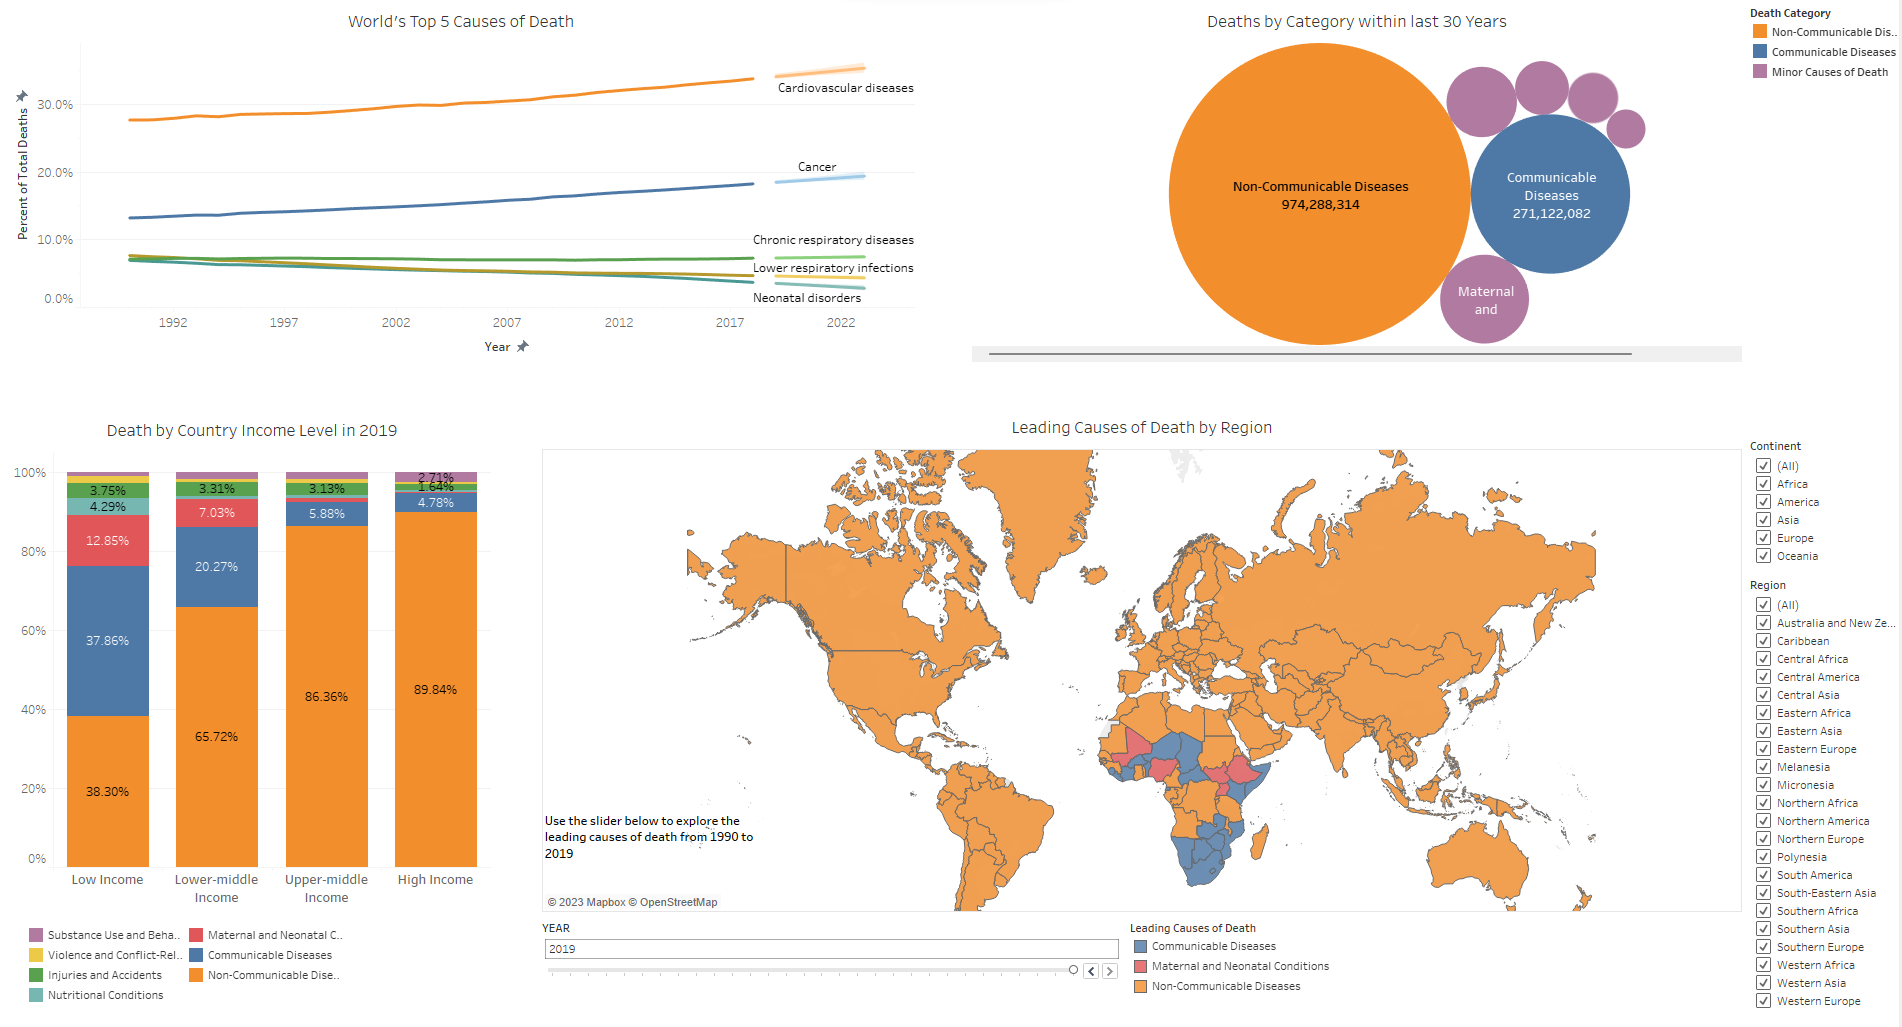

This screenshot's page, from the dashboard's own definition file:
{"tool":"tableau","page":{"name":"Causes of Death 1990-2019","canvas":[1000,1000],"units":"permille","ordinal":0},"visuals":[{"type":"title","box":[4.2,7.4,991.7,38.9]},{"type":"worksheet","title":"World's Top 5 Causes of Death","mark":"Automatic","rows":["Calculation_1858860763015200771"],"cols":["Year"],"box":[4.2,46.3,477.2,337.9]},{"type":"blank","box":[481.4,46.3,25.3,337.9]},{"type":"worksheet","title":"Deaths by Category within last 30 Years","mark":"Circle","box":[506.7,46.3,405.3,337.9]},{"type":"legend","title":"Deaths by Category within last 30 Years","param":"[federated.0o20hbt0xhkb2q1gcakiu0eyfboc].[Death Category (group)]","box":[912,46.3,83.9,400.9]},{"type":"blank","box":[4.2,384.2,907.8,38.2]},{"type":"blank","box":[4.2,422.5,278.9,471.4]},{"type":"worksheet","title":"Leading Causes of Death by Region","mark":"Multipolygon","box":[283.1,422.5,628.9,471.4]},{"type":"worksheet","title":"Death by Country Income Level in 2019","mark":"Automatic","cols":["Calculation_1858860763120832525"],"box":[9.5,428.7,248.9,473.6]},{"type":"filter","title":"Leading Causes of Death by Region","param":"[federated.0o20hbt0xhkb2q1gcakiu0eyfboc].[none:Continent (UN Geoscheme.csv1):nk]","box":[912,447.2,83.9,128.7]},{"type":"filter","title":"Leading Causes of Death by Region","param":"[federated.0o20hbt0xhkb2q1gcakiu0eyfboc].[none:Region (UN Geoscheme.csv1):nk]","box":[912,575.9,83.9,416.7]},{"type":"text","box":[284.8,793,123,56.6]},{"type":"legend","title":"Death by Country Income Level in 2019","param":"[federated.0o20hbt0xhkb2q1gcakiu0eyfboc].[none:Fatality Category:nk]","box":[16.1,886.7,248.2,97.7]},{"type":"blank","box":[4.2,893.8,278.7,98.8]},{"type":"filter","title":"Leading Causes of Death by Region","param":"[federated.0o20hbt0xhkb2q1gcakiu0eyfboc].[yr:Year:ok]","box":[282.8,893.8,306.2,98.8]},{"type":"legend","title":"Leading Causes of Death by Region","param":"[federated.0o20hbt0xhkb2q1gcakiu0eyfboc].[none:Leading Cause of Death by Year (c","box":[589,893.8,323,98.8]}]}

Visuals, with their boxes on the dashboard's canvas, which has no fixed pixel size, in thousandths of its width and height (x1, y1, x2, y2). These are canvas units, not pixel positions in the 1902x1027 screenshot, which may show the page scaled, cropped or inside an application window:
title: 4/7/996/46
"World's Top 5 Causes of Death" worksheet: 4/46/481/384
blank: 481/46/507/384
"Deaths by Category within last 30 Years" worksheet (Circle marks): 507/46/912/384
"Deaths by Category within last 30 Years" legend: 912/46/996/447
blank: 4/384/912/422
blank: 4/422/283/894
"Leading Causes of Death by Region" worksheet (Multipolygon marks): 283/422/912/894
"Death by Country Income Level in 2019" worksheet: 10/429/258/902
"Leading Causes of Death by Region" filter: 912/447/996/576
"Leading Causes of Death by Region" filter: 912/576/996/993
text: 285/793/408/850
"Death by Country Income Level in 2019" legend: 16/887/264/984
blank: 4/894/283/993
"Leading Causes of Death by Region" filter: 283/894/589/993
"Leading Causes of Death by Region" legend: 589/894/912/993
